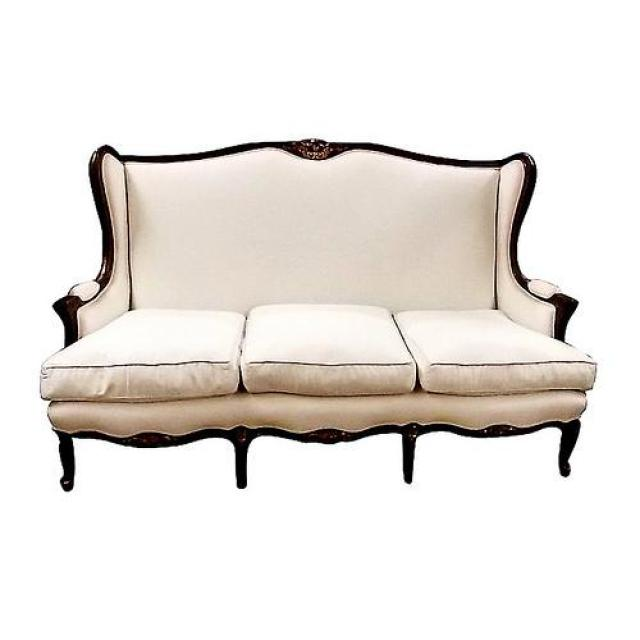sofa: (44, 134, 601, 489)
